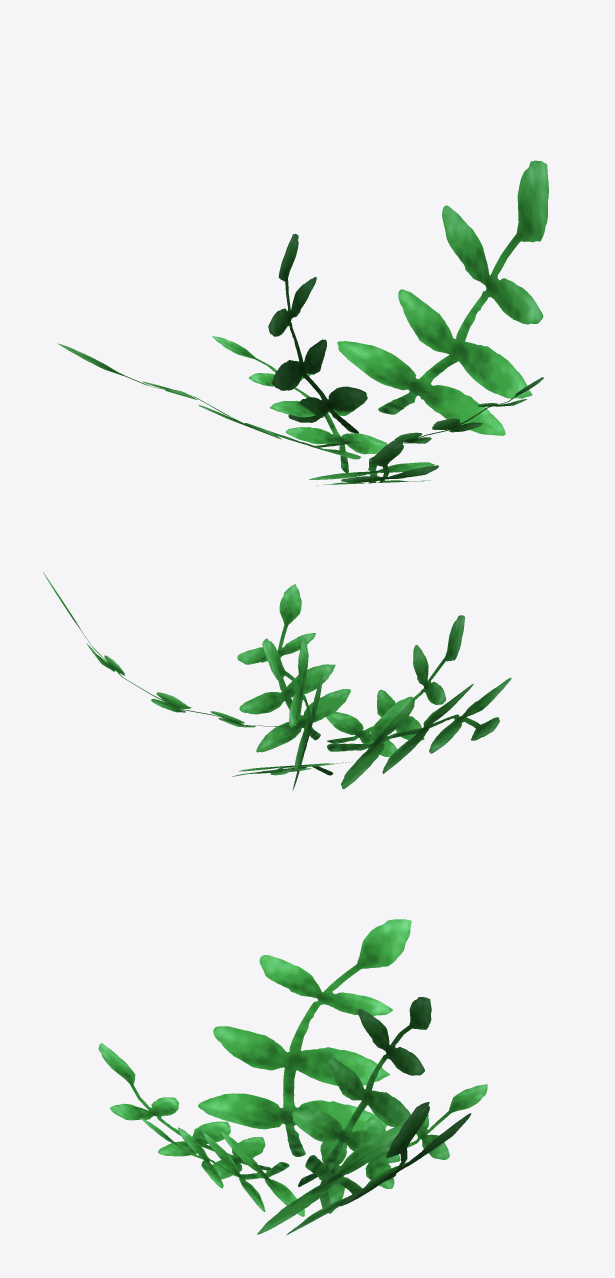
The model's file is 落花生草 (1).fbx.
The picture shows the model from 3 angles, top to bottom: view 1: azimuth 30°, elevation 25°; view 2: azimuth 150°, elevation 25°; view 3: azimuth 270°, elevation 25°; orthographic projection. The views are drawn at different scales.
Visible parts, largest first — view 1: KUSA; view 2: KUSA; view 3: KUSA.
Part boxes in pixels (x1=…): KUSA: x1=57, y1=160, x2=548, y2=485; KUSA: x1=43, y1=572, x2=511, y2=790; KUSA: x1=98, y1=919, x2=487, y2=1235.
Size of the model in its own units: 352 by 207 by 324.
Materials: 1 (1 with a texture image).
